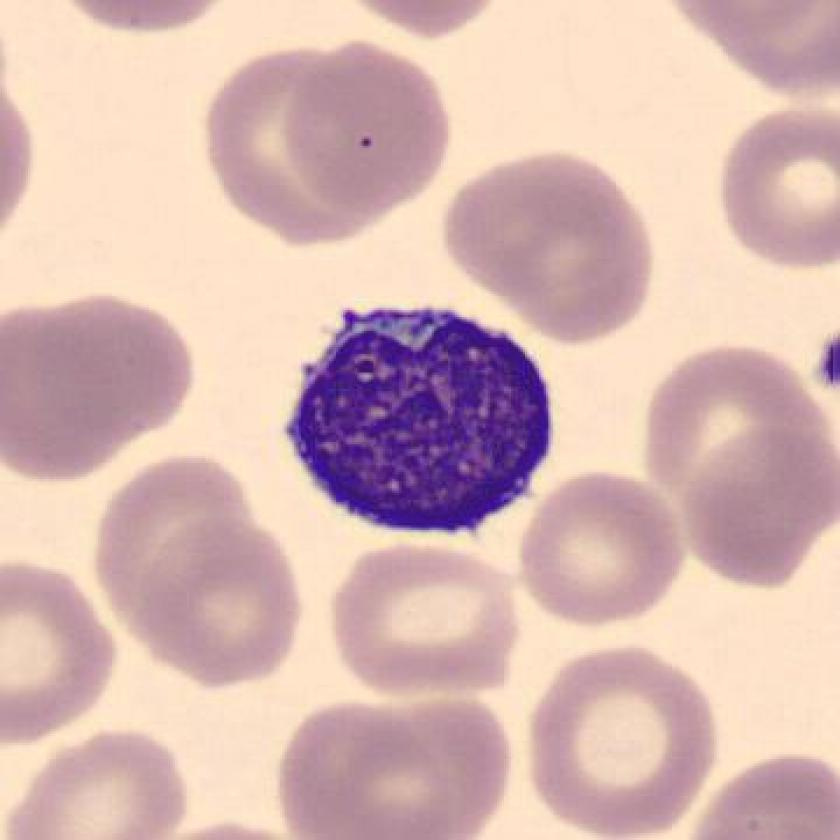lymphocyte: (267, 290, 570, 540)
